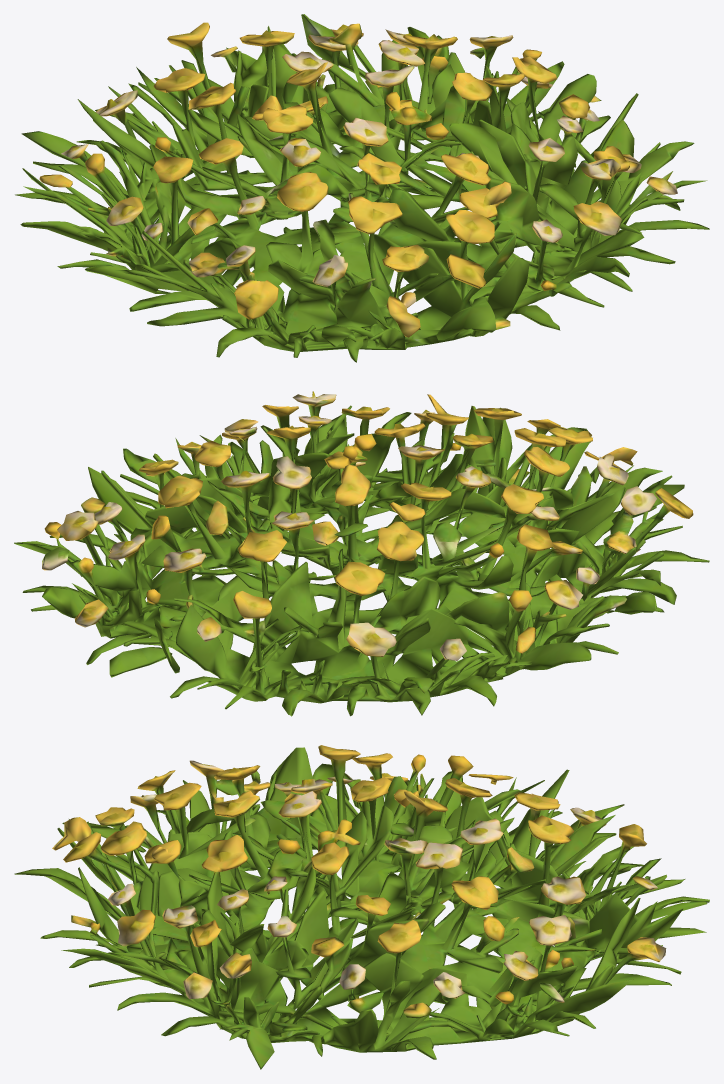
File: prop_flower_b.glb
3 views of the same model, one above another, from view 1: azimuth 30°, elevation 25°; view 2: azimuth 150°, elevation 25°; view 3: azimuth 270°, elevation 25° (orthographic). The views are drawn at different scales.
Parts seen in each view (by area): view 1: tripo_node_c7eb268b-2e71-4c28-b34d-22d0def5d2fc; view 2: tripo_node_c7eb268b-2e71-4c28-b34d-22d0def5d2fc; view 3: tripo_node_c7eb268b-2e71-4c28-b34d-22d0def5d2fc.
Boxes of the visible parts, x1,y1,x2,y2 form: tripo_node_c7eb268b-2e71-4c28-b34d-22d0def5d2fc: (15, 14, 709, 362); tripo_node_c7eb268b-2e71-4c28-b34d-22d0def5d2fc: (14, 391, 709, 716); tripo_node_c7eb268b-2e71-4c28-b34d-22d0def5d2fc: (14, 745, 709, 1069).
Bounding box in the file's own units: 0.9142 × 0.2476 × 0.998.
1 material, 1 textured.
